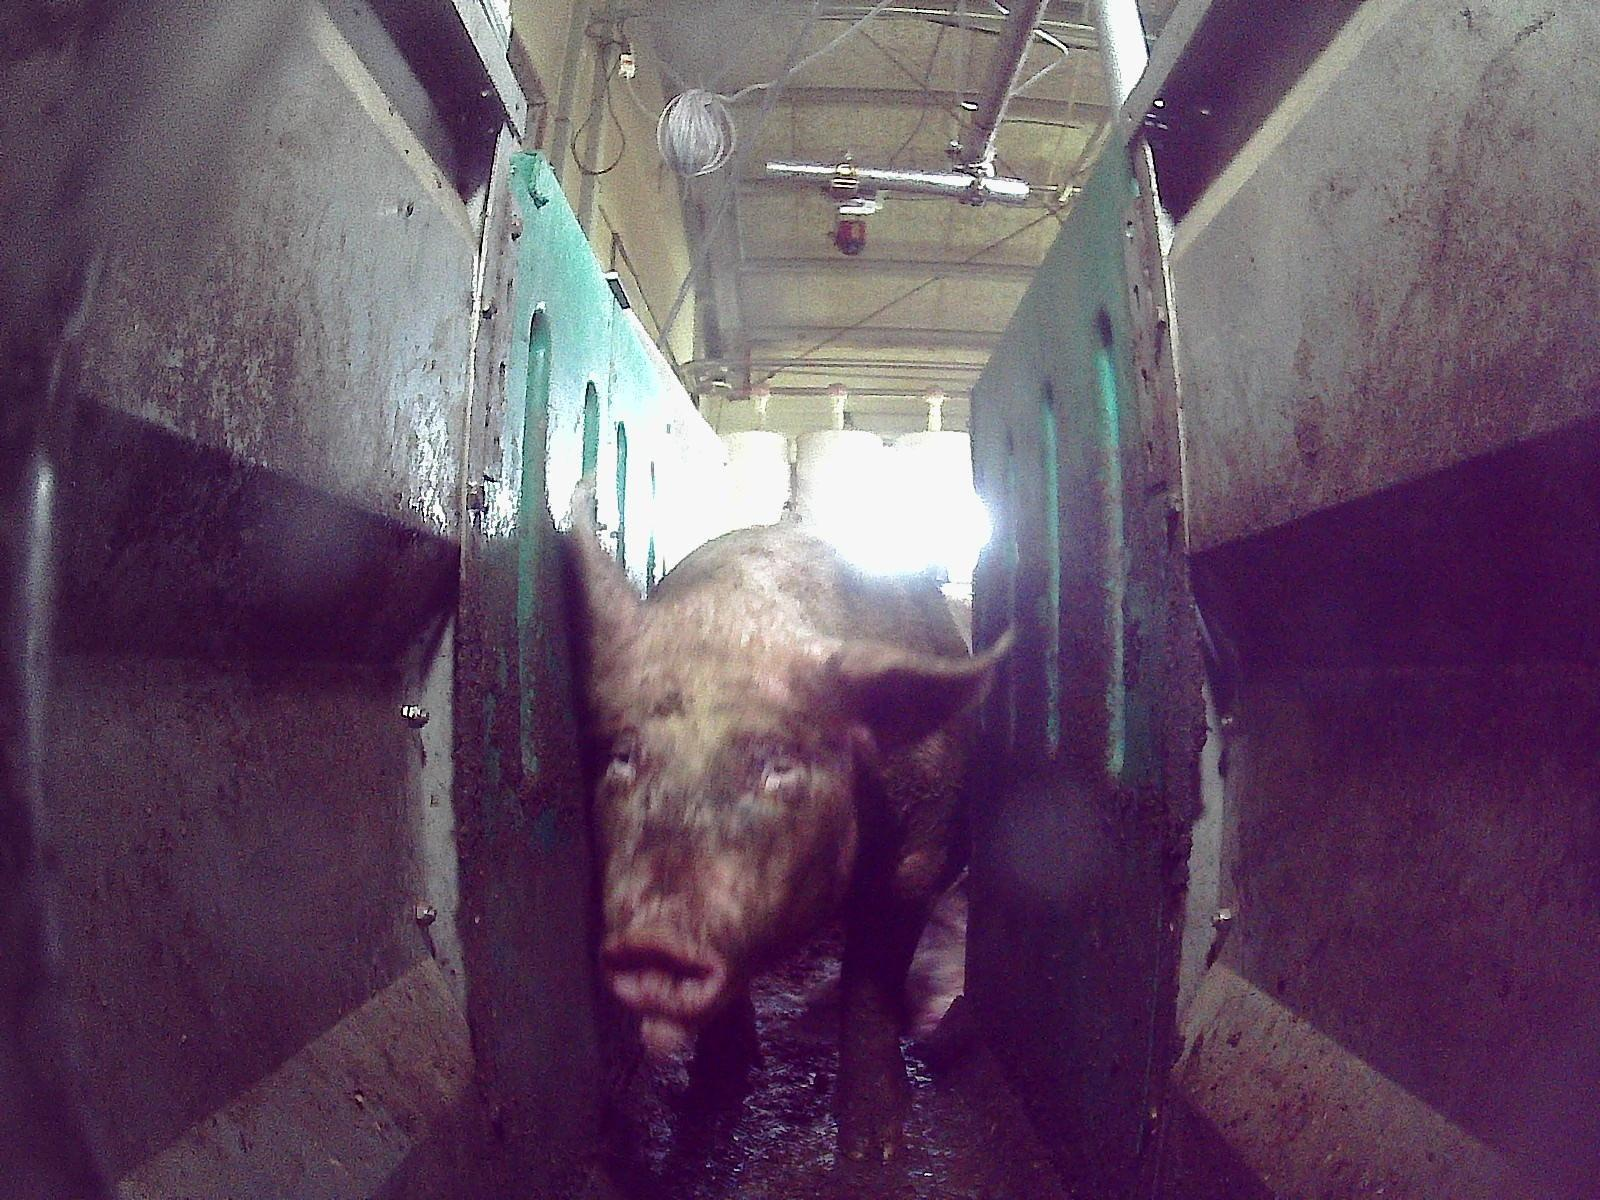Face: (595, 651, 841, 1055)
